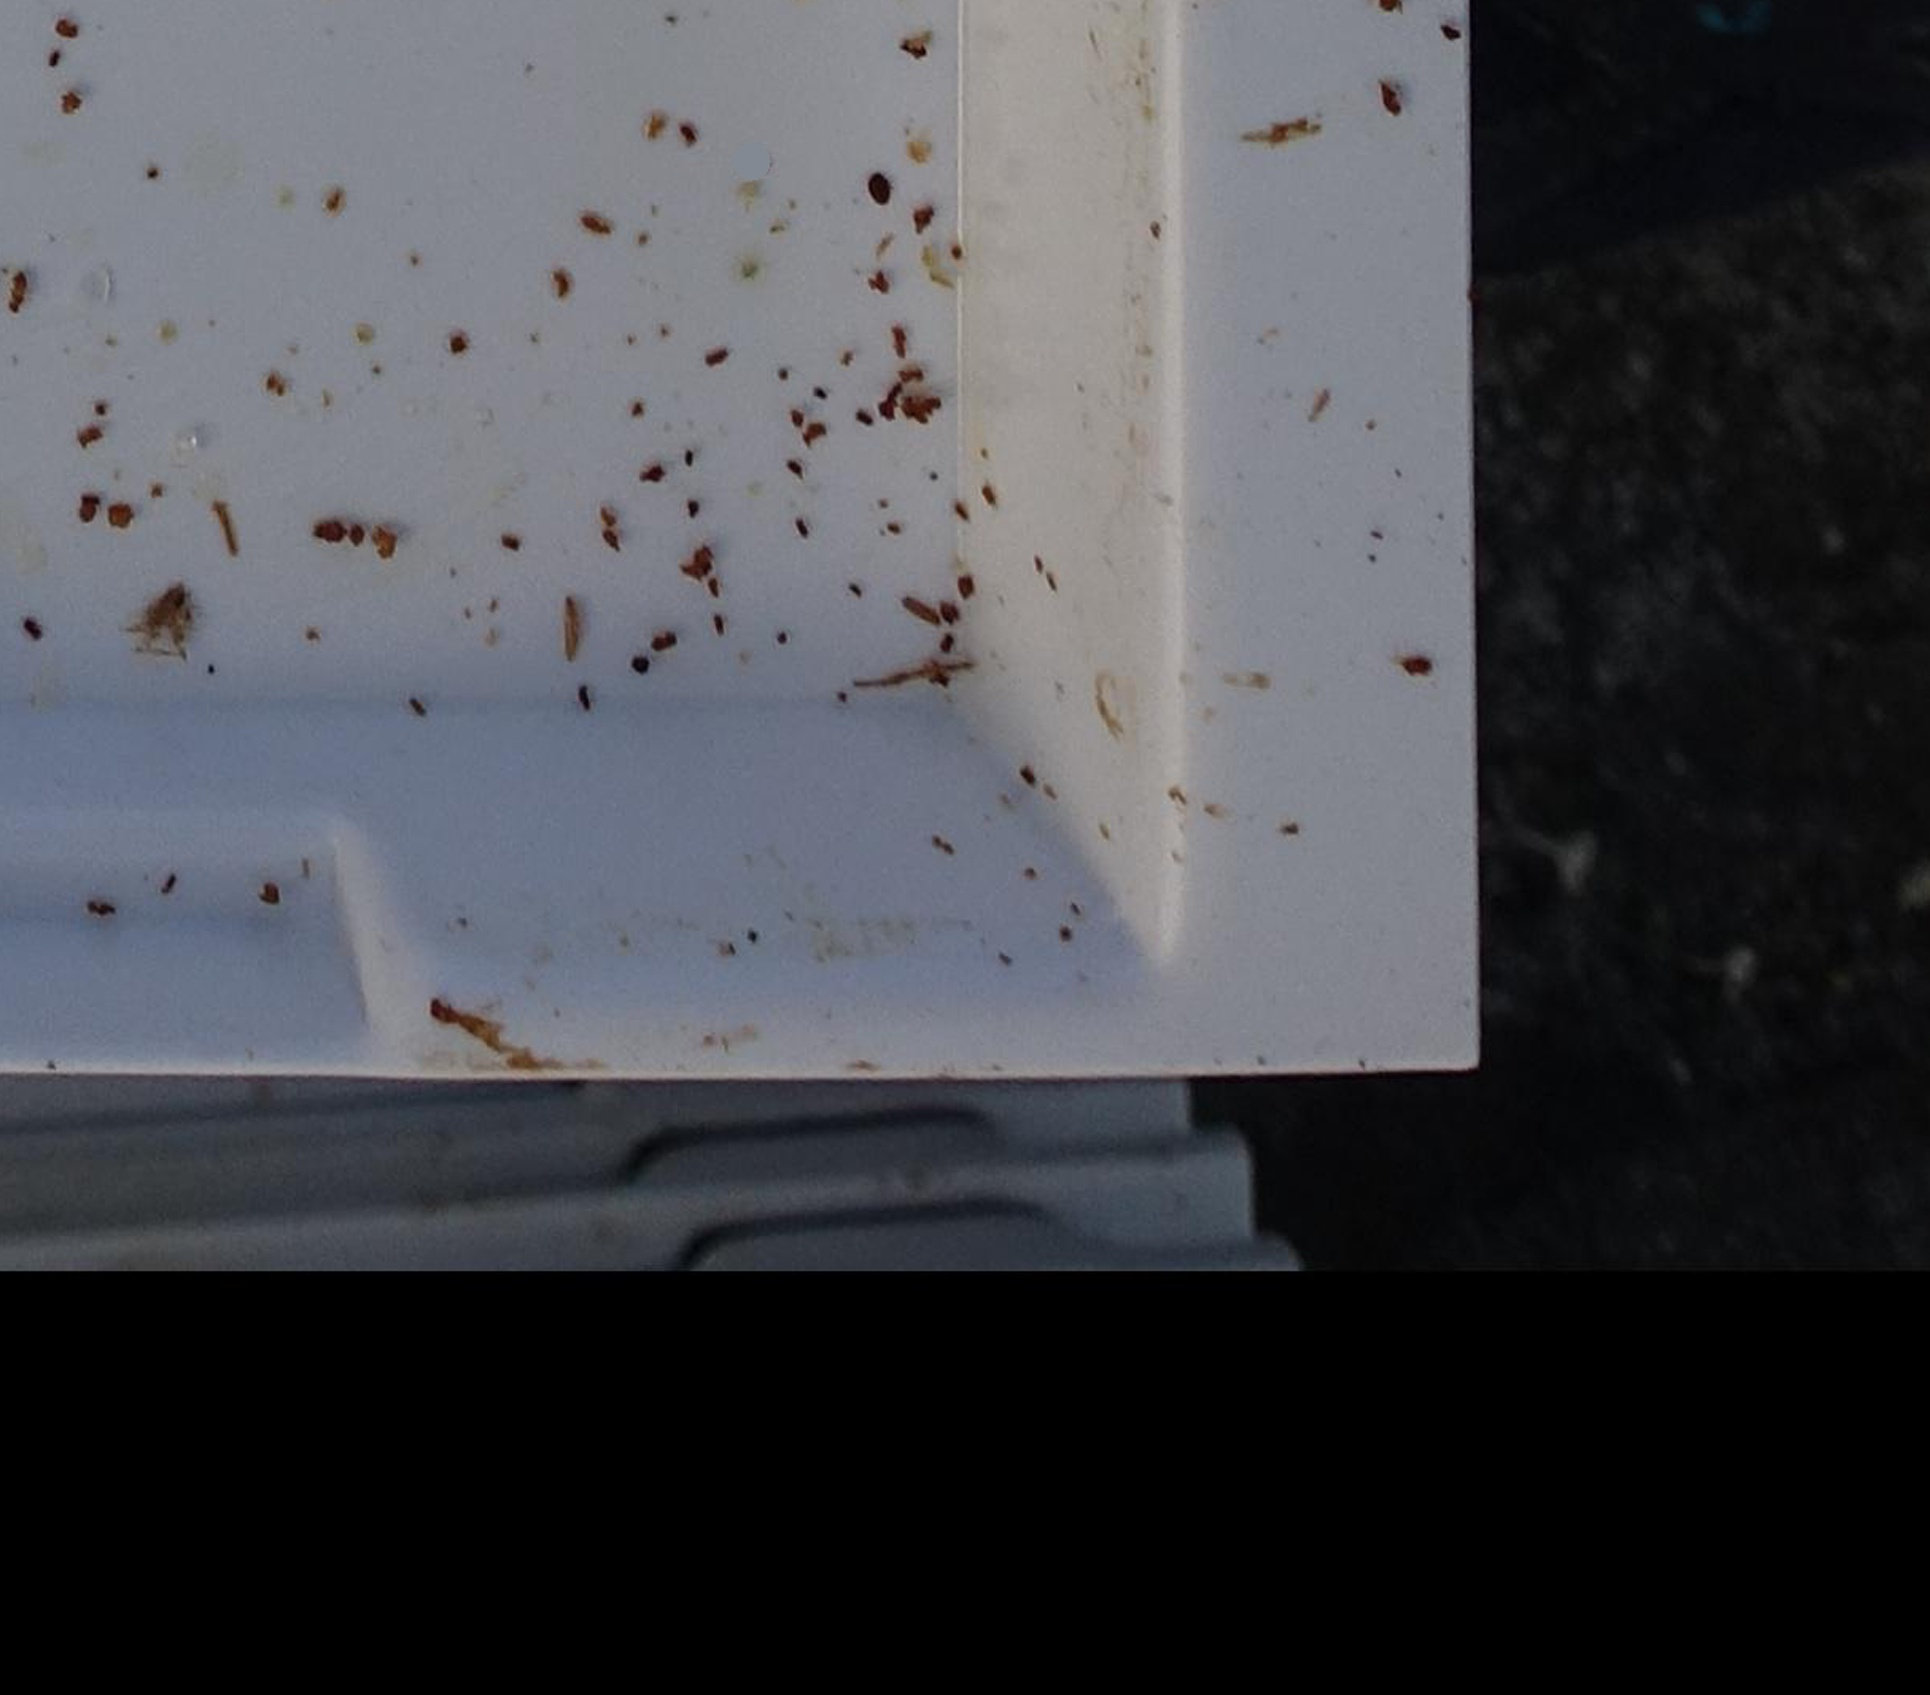Varroa: (873, 177, 896, 203)
